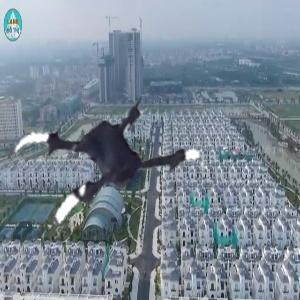drone: (8, 74, 203, 269)
